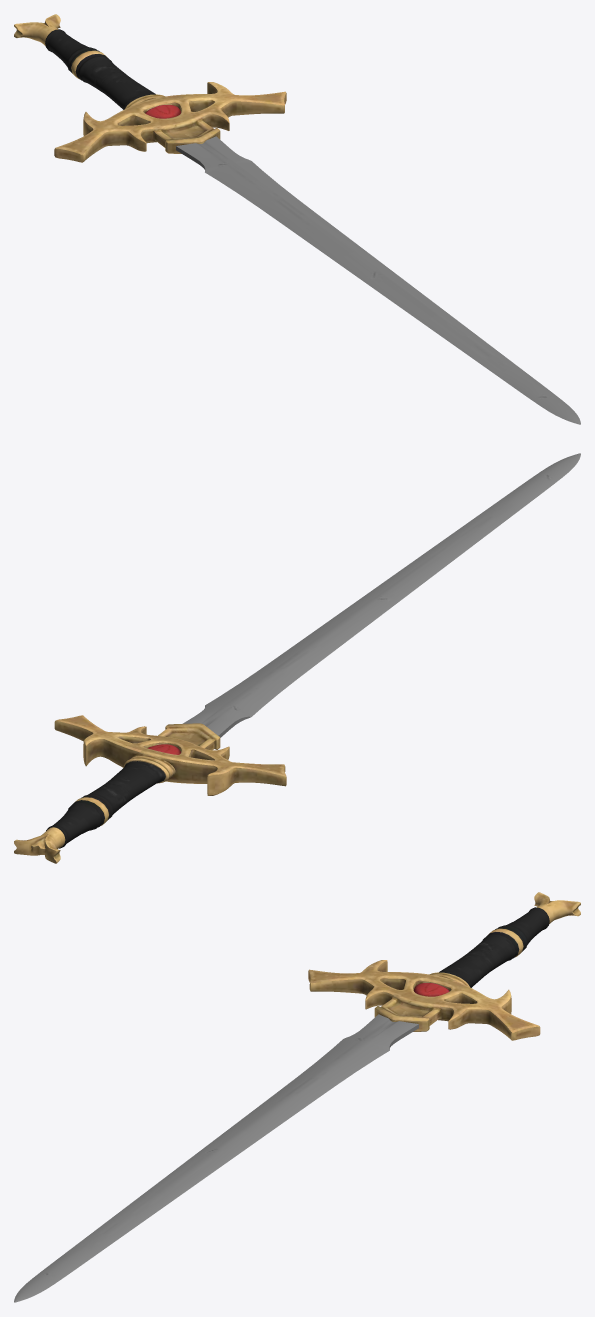
File: sword.glb
3 views of the same model, one above another, from view 1: azimuth 30°, elevation 25°; view 2: azimuth 150°, elevation 25°; view 3: azimuth 330°, elevation 25° (orthographic).
Parts seen in each view (by area): view 1: AribethsBlade_LP_Final; view 2: AribethsBlade_LP_Final; view 3: AribethsBlade_LP_Final.
Part boxes in pixels (<box>): AribethsBlade_LP_Final: <box>14,14,580,424</box>; AribethsBlade_LP_Final: <box>14,453,580,863</box>; AribethsBlade_LP_Final: <box>14,892,580,1302</box>.
Size of the model in its own units: 0.4902 by 0.0552 by 2.
1 material, 1 textured.
